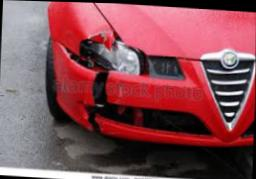Bumper: (58, 61, 121, 128)
Light: (82, 36, 141, 78)
